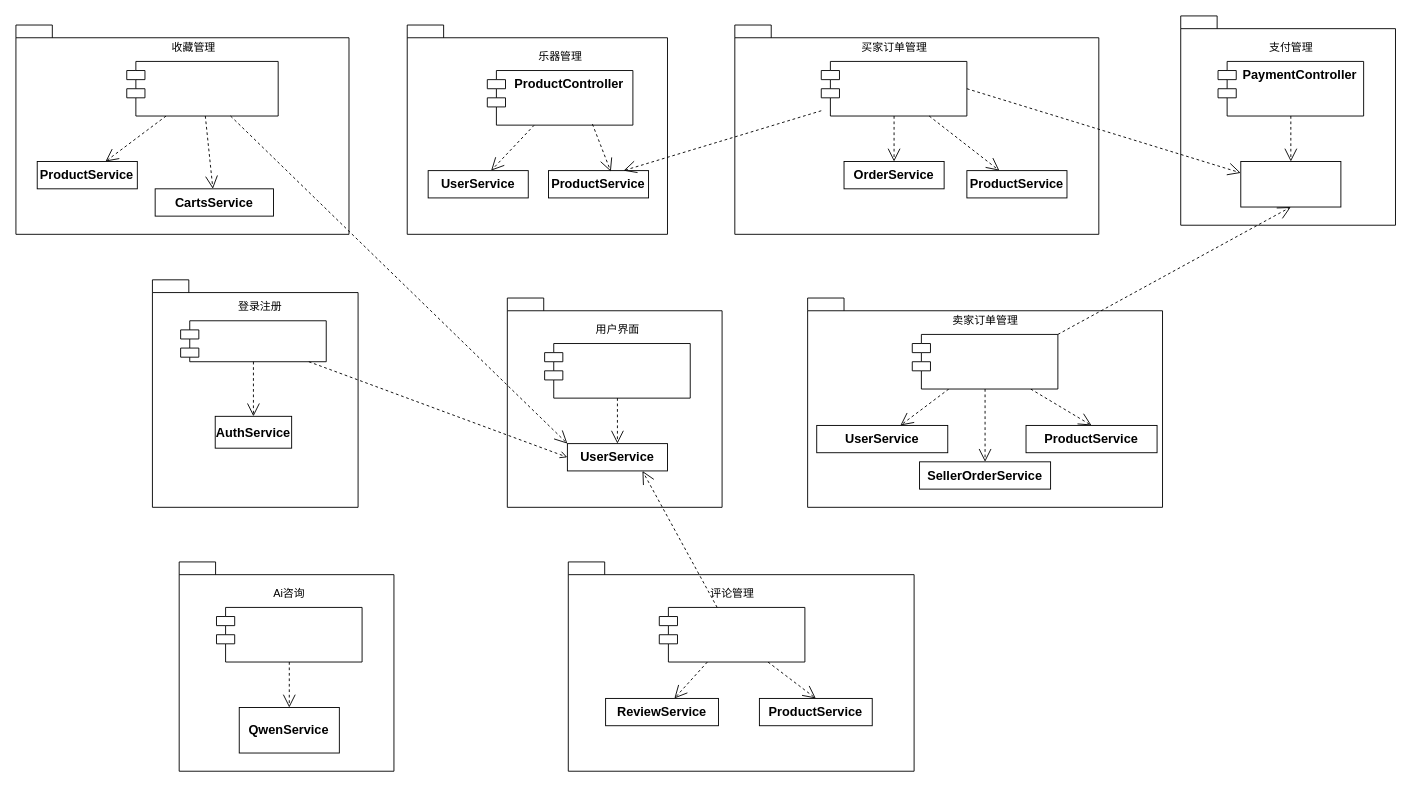
This 1411x787 diagram has some shape labels left out. The centre of each missing label's shape, as x and y in pixels:
AuthController: point 253,341
CartsController: point 202,88
OrderController: point 893,88
PaymentService: point 1290,184
QwenController: point 289,634
ReviewController: point 731,634
SellerOrderController: point 984,361
UserController: point 617,370
